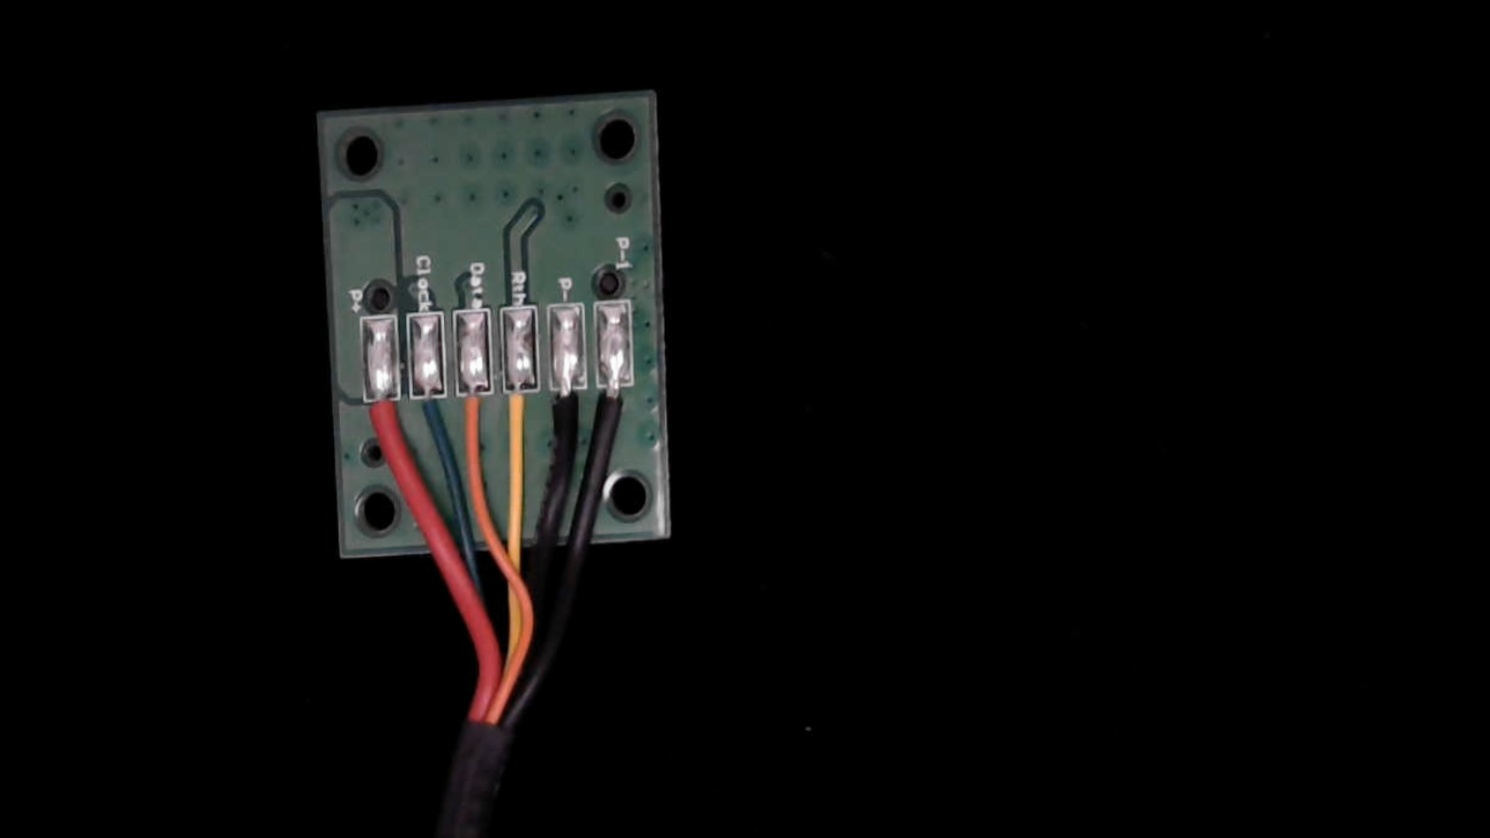Black: (545, 366, 586, 465)
Black1: (596, 366, 637, 456)
Green: (408, 374, 450, 469)
Orange: (453, 371, 492, 469)
Red: (362, 376, 405, 471)
Yellow: (499, 370, 540, 471)
